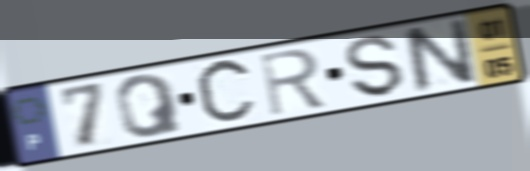7: (58, 79, 109, 151)
C: (192, 54, 260, 130)
N: (399, 15, 480, 97)
Q: (112, 72, 186, 140)
R: (257, 46, 330, 119)
S: (342, 33, 408, 99)
